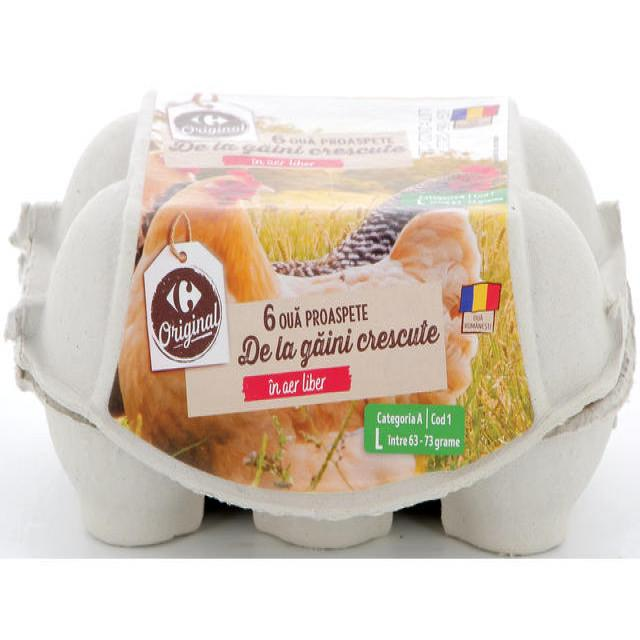eggs: (7, 94, 636, 557)
